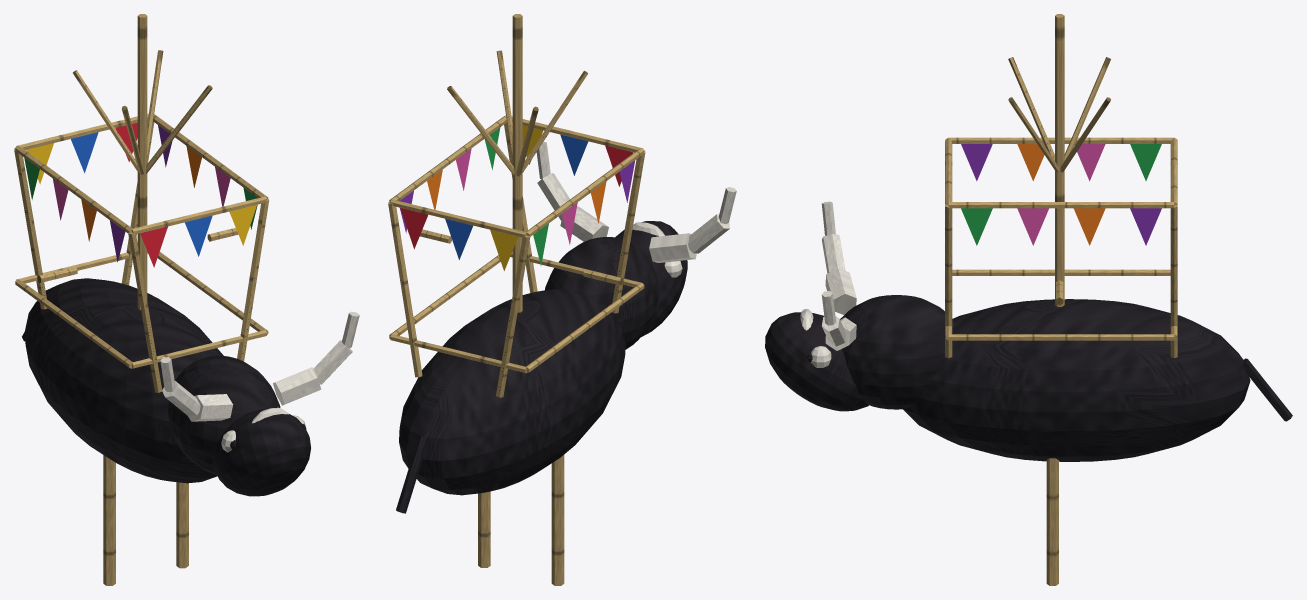
The model's file is torito.obj.
3 views of the same model, side by side, from view 1: azimuth 30°, elevation 25°; view 2: azimuth 150°, elevation 25°; view 3: azimuth 270°, elevation 25° (orthographic). The views are drawn at different scales.
Parts seen in each view (by area): view 1: torito; view 2: torito; view 3: torito.
Part boxes in pixels (left/top/right/bottom): torito: left=14, top=14, right=359, bottom=585; torito: left=388, top=14, right=736, bottom=585; torito: left=765, top=14, right=1292, bottom=585.
Size of the model in its own units: 0.68 by 1.75 by 1.52.
